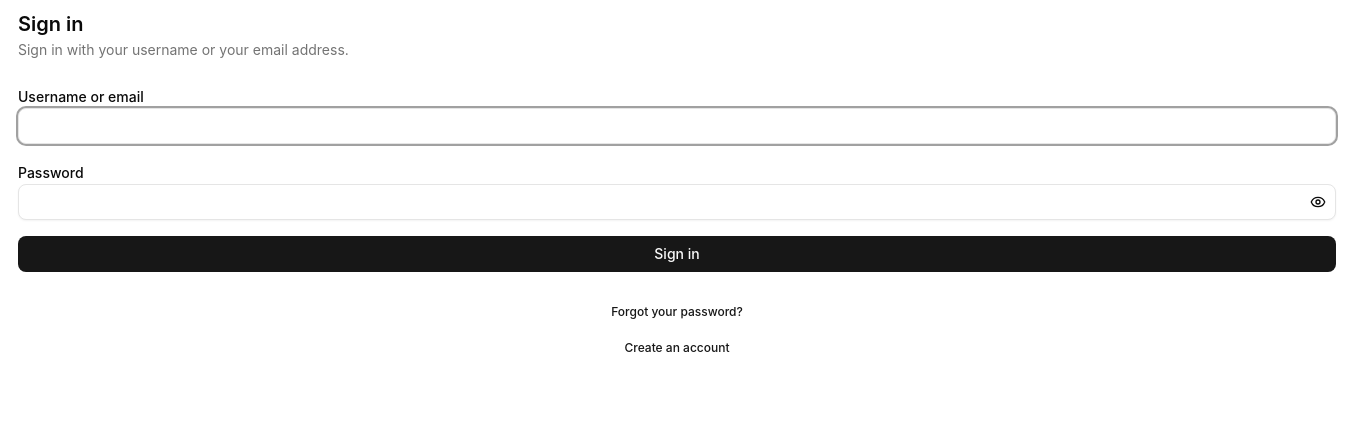
it: shows a generic message for wrong credentials
Type "jane" into the field labelled "Username or email" at (677, 126), box [18,108,1336,144]
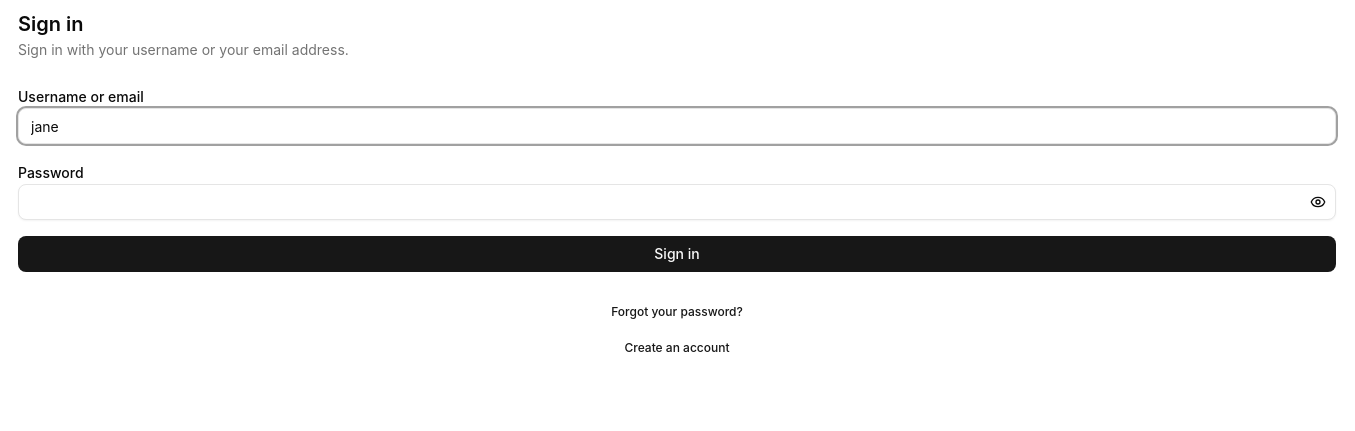
Type "a-long-enough-password" into the password field labelled "Password" at (677, 202), box [18,184,1336,220]
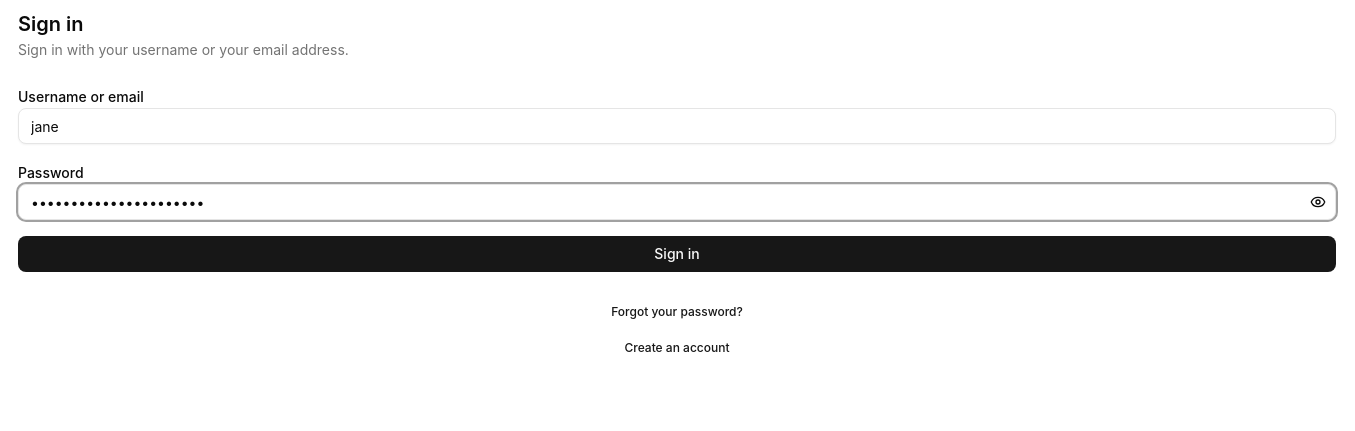
Click the button "Sign in" at (677, 254), box [18,236,1336,272]
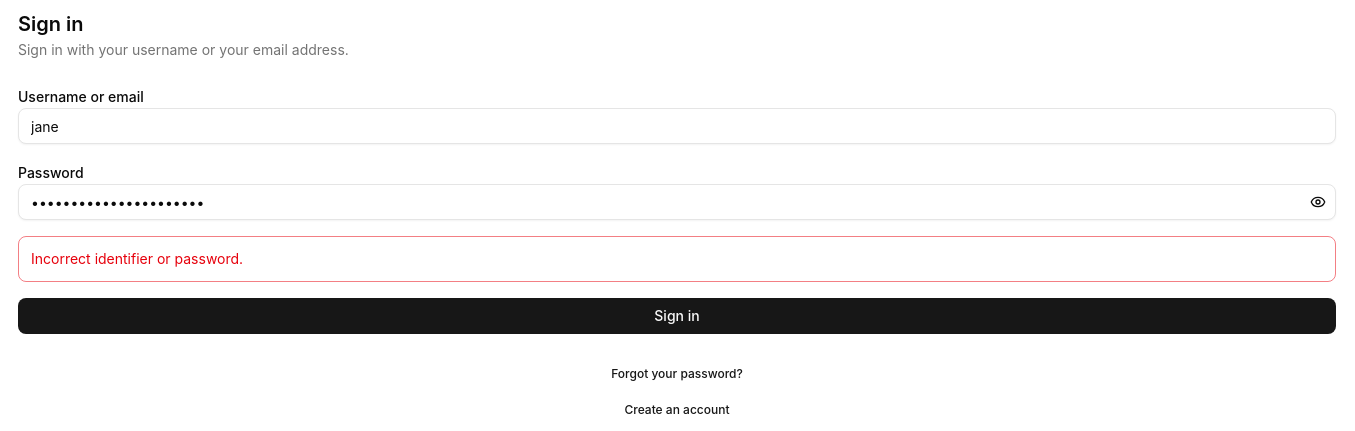
Now the message reads "Incorrect identifier or password.", box [31,250,243,267]
